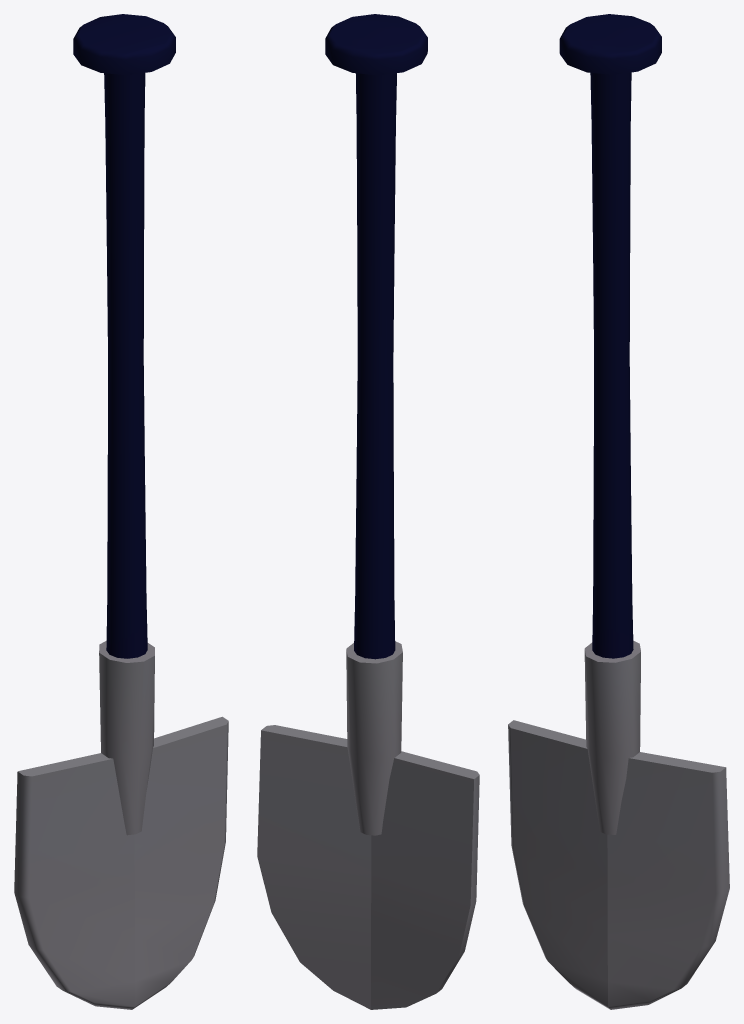
File: Shovel.fbx
3 views of the same model, side by side, from view 1: azimuth 30°, elevation 25°; view 2: azimuth 150°, elevation 25°; view 3: azimuth 330°, elevation 25° (orthographic).
Visible parts, largest first — view 1: Shovel; view 2: Shovel; view 3: Shovel.
Boxes of the visible parts, x1,y1,x2,y2 form: Shovel: (14,14,228,1009); Shovel: (257,14,479,1009); Shovel: (508,14,729,1009).
Bounding box in the file's own units: 33.64 × 14.23 × 149.
